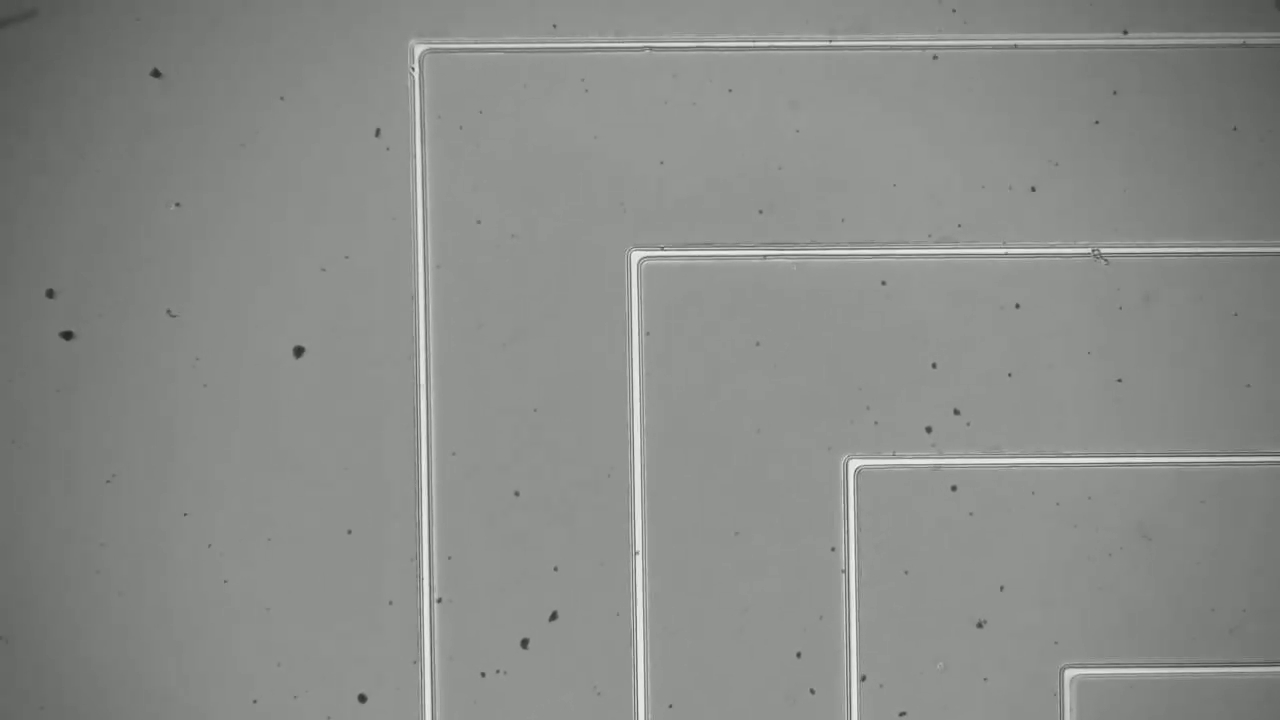stains_enbedded: (1080, 230, 1118, 271)
